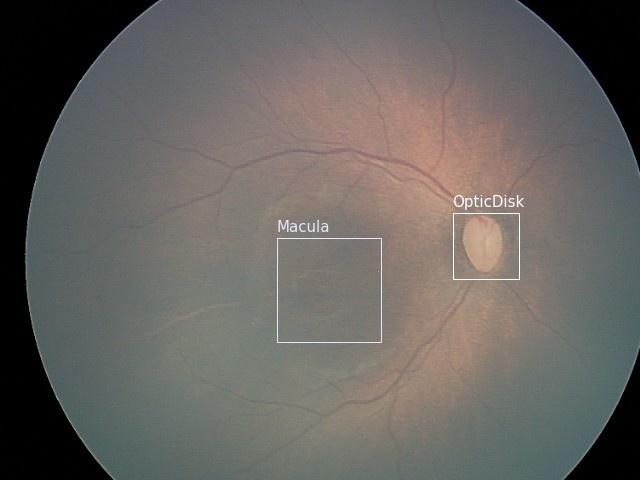Macula: (276, 237, 380, 341)
OpticDisk: (452, 212, 518, 278)
